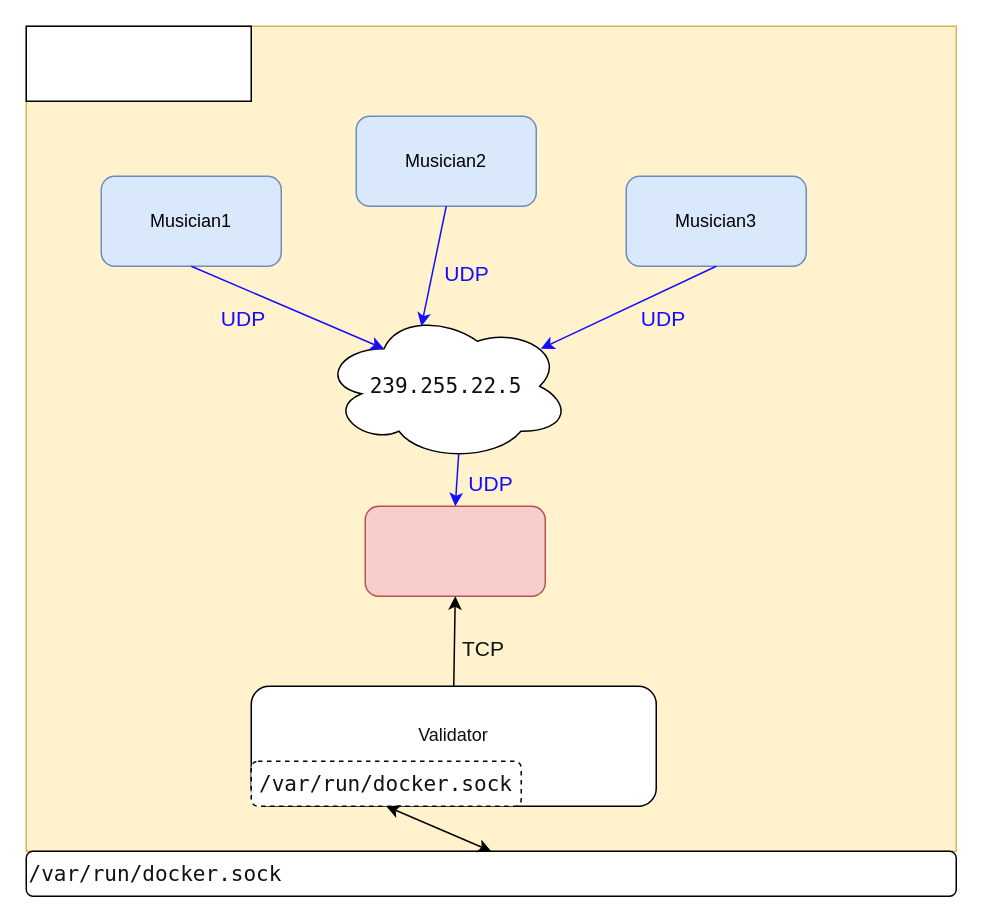
Some shapes in this 983 by 923 pixel diagram are drawn without their labels. Here are the shapes that lost their labels. From the top down, the centre of each, then its label:
(x=138, y=63): Docker
(x=454, y=550): Auditor1
